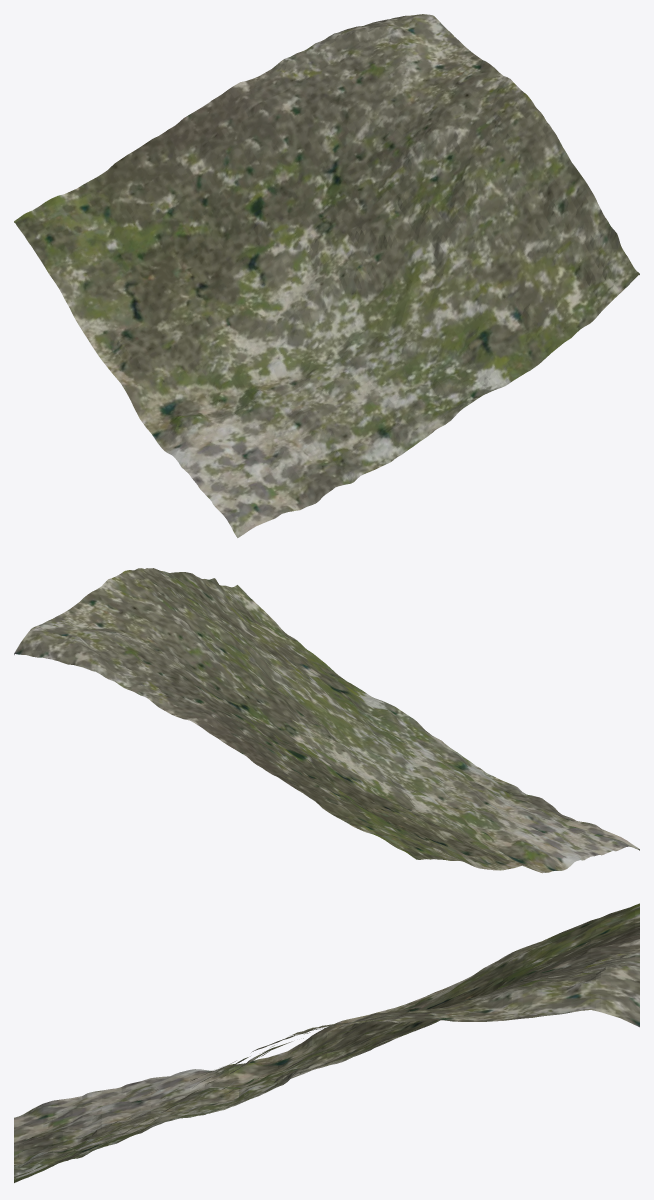
3 renders of one model, top to bottom at view 1: azimuth 30°, elevation 25°; view 2: azimuth 150°, elevation 25°; view 3: azimuth 270°, elevation 25°, orthographic. The views are drawn at different scales.
Size of the model in its own units: 250 by 164 by 241.
1 material, 1 textured.
